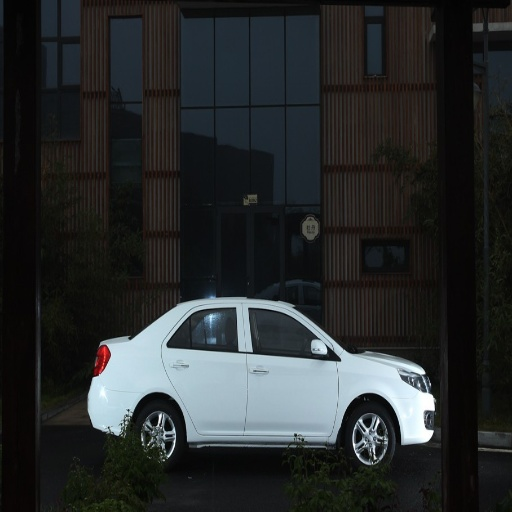back_right_door: (162, 303, 244, 433)
front_right_door: (245, 304, 338, 436)
